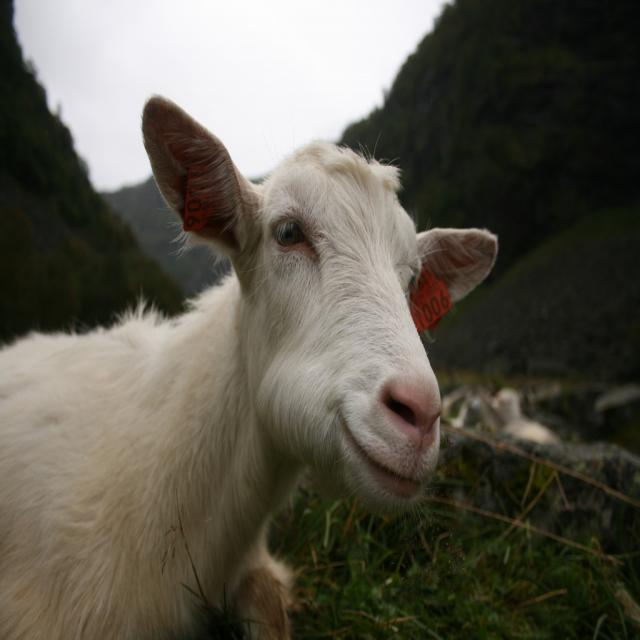Goat: (0, 90, 499, 640)
